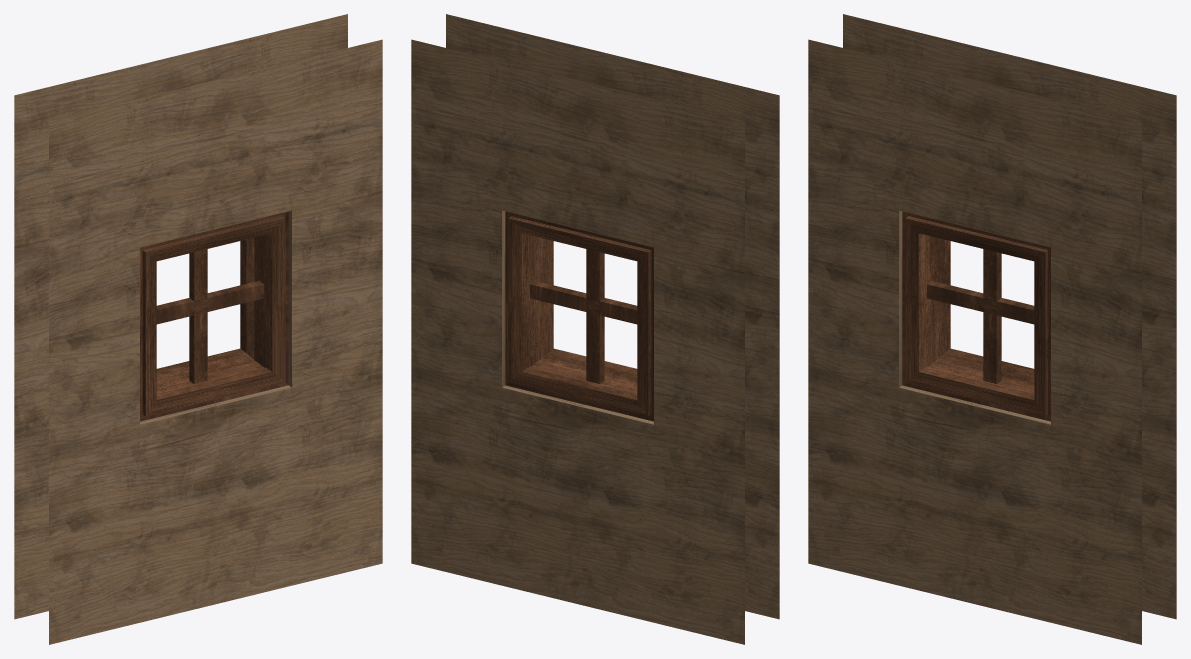
Rendered from cabinWallWindow.fbx.
3 renders of one model, left to right at view 1: azimuth 30°, elevation 25°; view 2: azimuth 150°, elevation 25°; view 3: azimuth 330°, elevation 25°, orthographic.
Parts seen in each view (by area): view 1: cabinWallWindow1; view 2: cabinWallWindow1; view 3: cabinWallWindow1.
Part boxes in pixels (left/top/right/bottom): cabinWallWindow1: left=14, top=14, right=382, bottom=644; cabinWallWindow1: left=411, top=14, right=779, bottom=644; cabinWallWindow1: left=808, top=14, right=1176, bottom=644.
Size of the model in its own units: 200 by 300 by 36.08.
